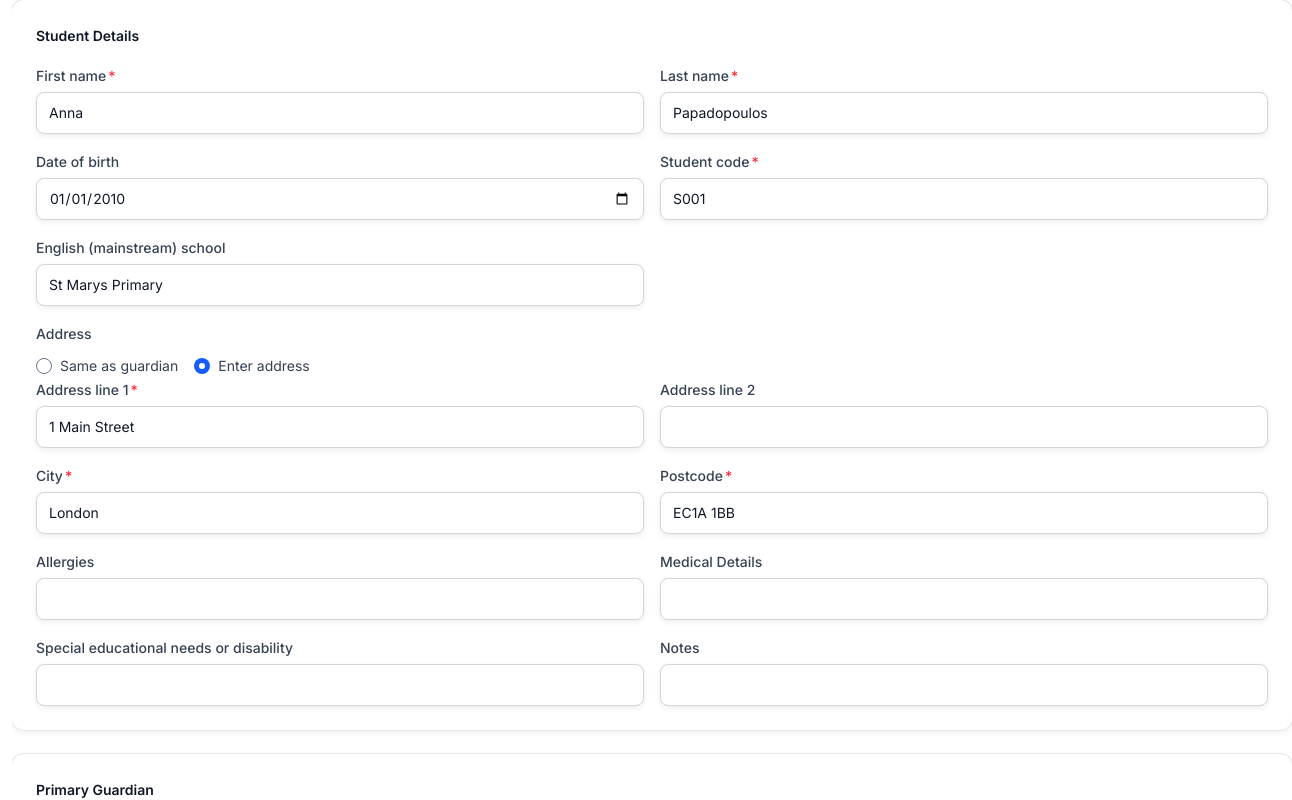
Test: StudentForm with initial (editing) › may leave on their own › follows a date of birth changed on the form
The image size is (1292, 800).
Type "2020-01-01" into the date field labelled "Date of birth" at (340, 199), box [36,178,644,220]
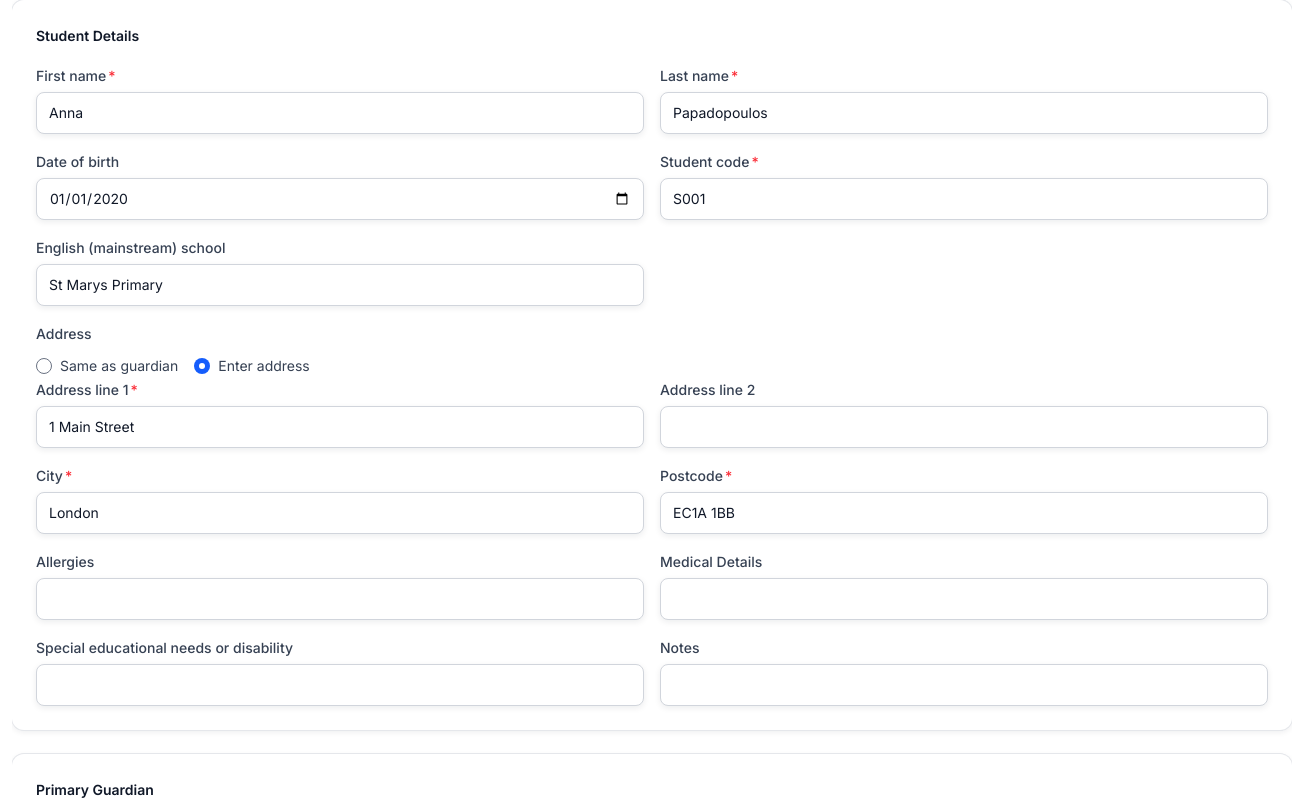
Type "2010-01-01" into the date field labelled "Date of birth" at (340, 199), box [36,178,644,220]
(page scrolled)
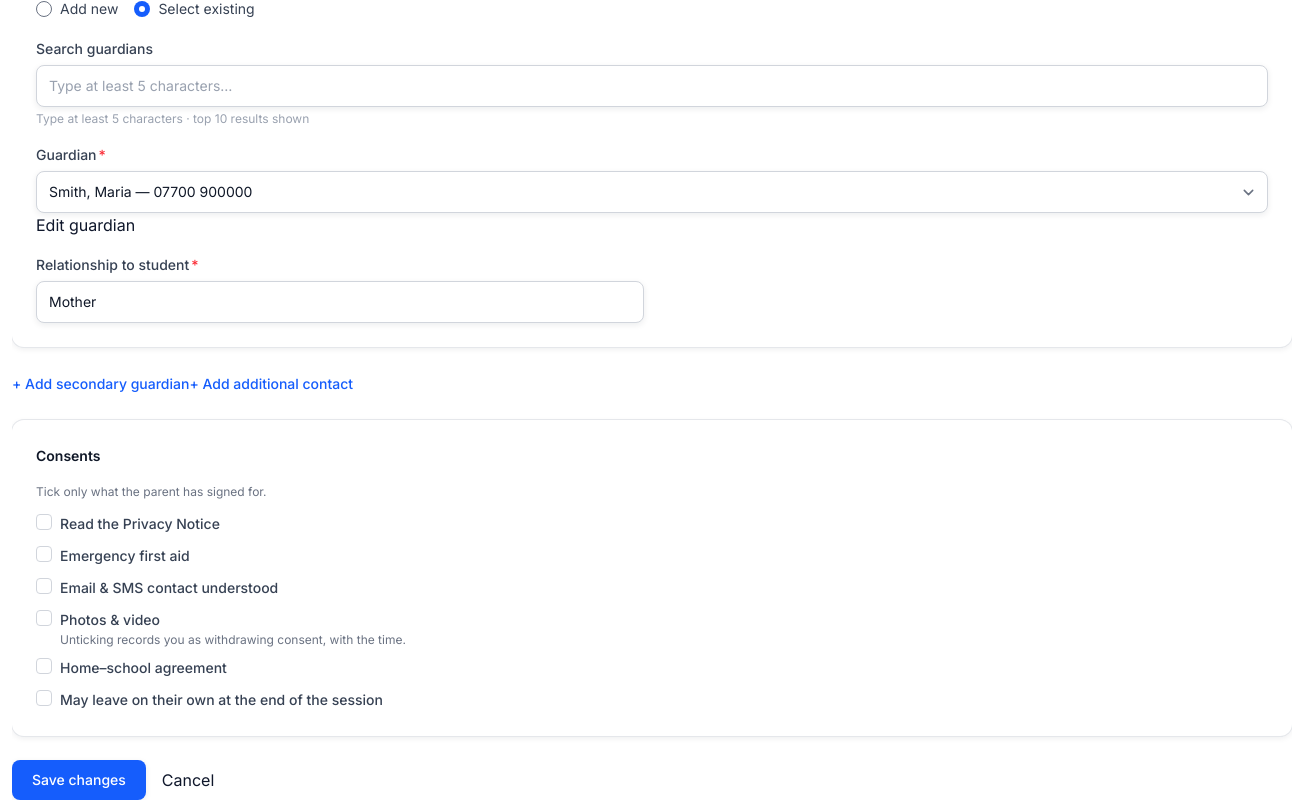
Result: the checkbox labelled "May leave on their own at the end of the session" is not checked at [36,690,52,706]
Result: the checkbox labelled "May leave on their own at the end of the session" is enabled at [36,690,52,706]
